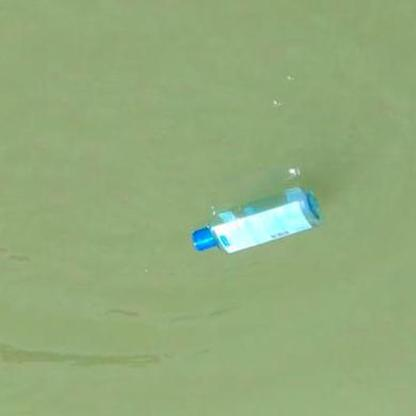plastic bottle: (191, 188, 325, 253)
